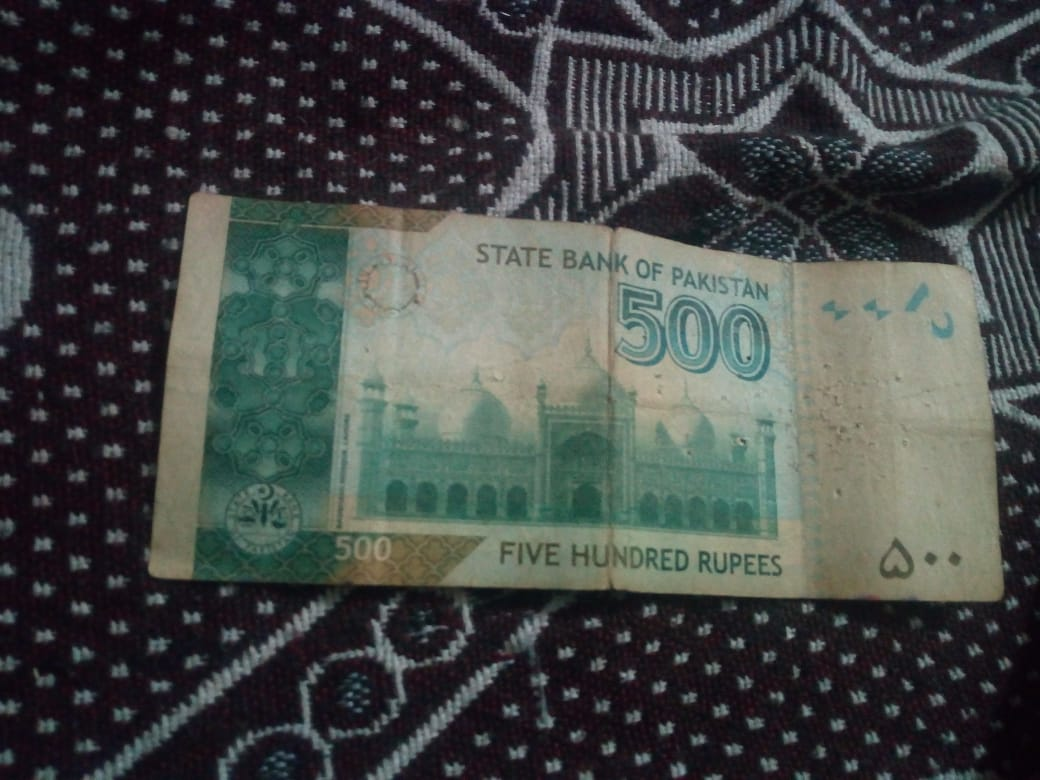500 rupee: (160, 191, 996, 616)
